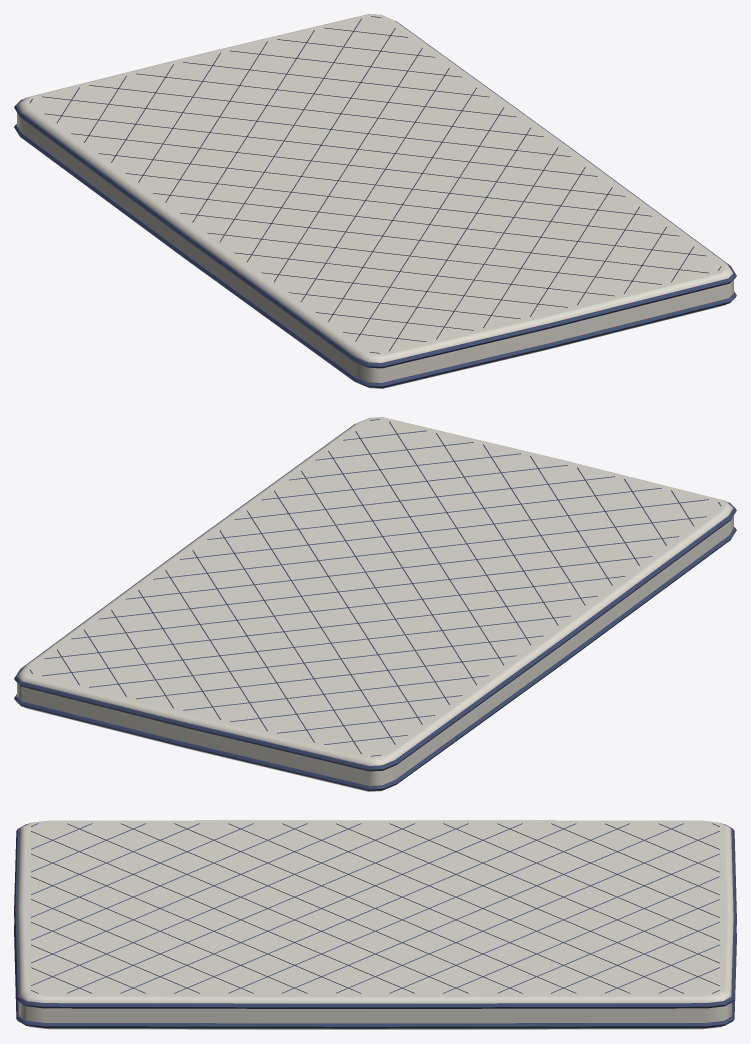
The model's file is nem_xo_dua_120.mid.glb.
The picture shows the model from 3 angles, top to bottom: view 1: azimuth 30°, elevation 25°; view 2: azimuth 150°, elevation 25°; view 3: azimuth 270°, elevation 25°; orthographic projection.
Visible parts, largest first — view 1: nem_xo_dua_120; view 2: nem_xo_dua_120; view 3: nem_xo_dua_120.
Boxes of the visible parts, x1,y1,x2,y2 form: nem_xo_dua_120: (14, 14, 736, 388); nem_xo_dua_120: (14, 417, 736, 791); nem_xo_dua_120: (14, 820, 736, 1029).
Size of the model in its own units: 1.22 by 0.1018 by 2.02.
